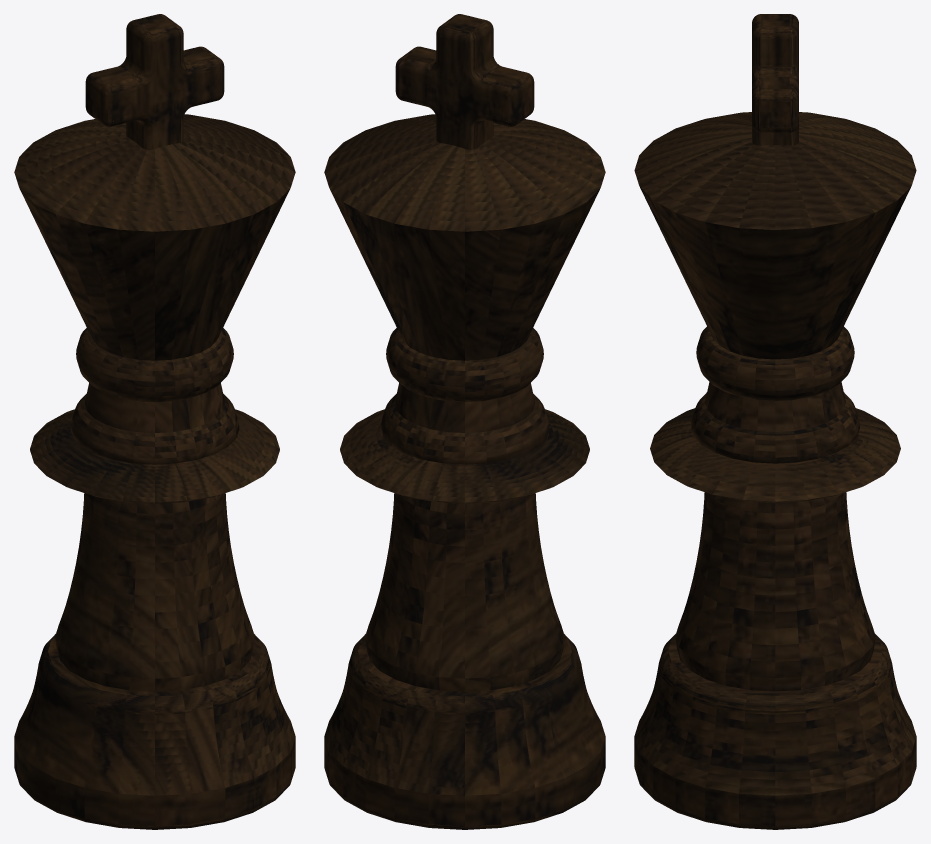
File: King_b.dae
3 views of the same model, side by side, from view 1: azimuth 30°, elevation 25°; view 2: azimuth 150°, elevation 25°; view 3: azimuth 270°, elevation 25° (orthographic).
Visible parts, largest first — view 1: group_1, group_0 (×2); view 2: group_1, group_0 (×2); view 3: group_1, group_0 (×2).
Boxes of the visible parts, box(x1,y1,x2,y2) form: group_1: box(14, 114, 295, 829); group_0 (×2): box(85, 14, 224, 149); group_1: box(324, 114, 605, 829); group_0 (×2): box(395, 14, 534, 149); group_1: box(634, 112, 916, 829); group_0 (×2): box(752, 14, 798, 145).
Bounding box in the file's own units: 23.62 × 23.62 × 69.34.
1 material, 1 textured.
